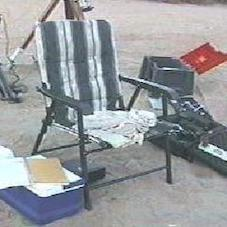chair: (17, 5, 188, 196)
